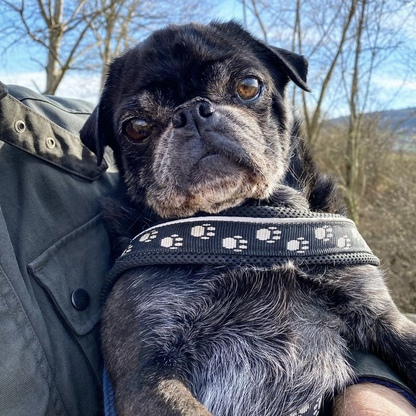Pug: (75, 12, 416, 414)
